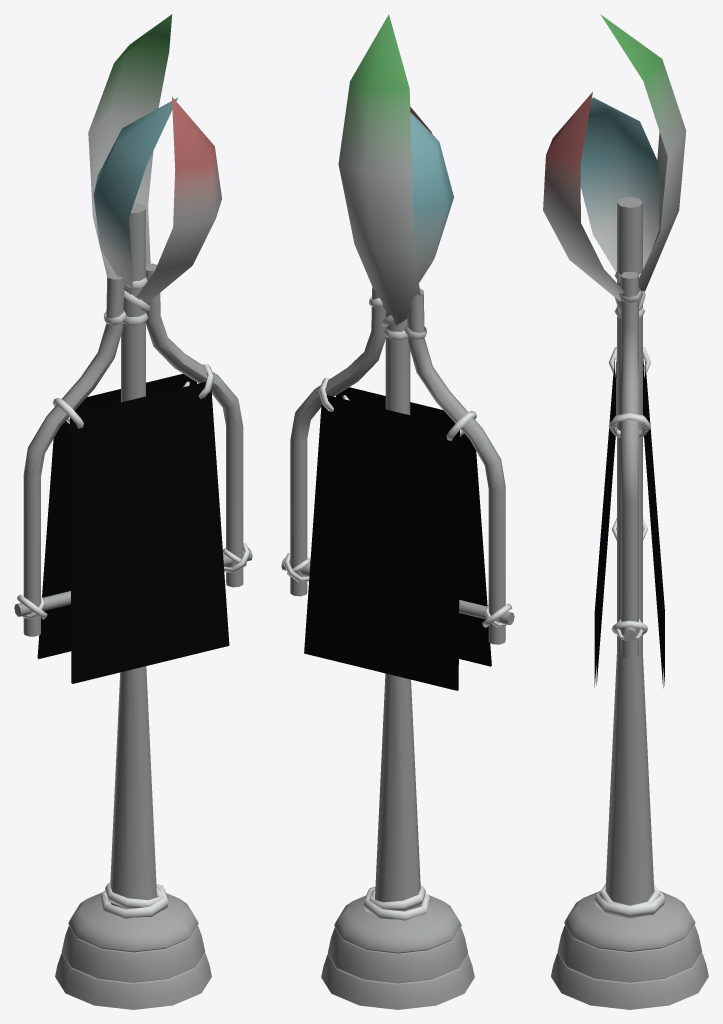
3 views of the same model, side by side, from view 1: azimuth 30°, elevation 25°; view 2: azimuth 150°, elevation 25°; view 3: azimuth 270°, elevation 25° (orthographic). The views are drawn at different scales.
Parts seen in each view (by area): view 1: G:\FFXIV-MapTools\exports\y6f1\bg\ex5\02_ykt_y6\fld\y6f1\bgp (×5); view 2: G:\FFXIV-MapTools\exports\y6f1\bg\ex5\02_ykt_y6\fld\y6f1\bgp (×5); view 3: G:\FFXIV-MapTools\exports\y6f1\bg\ex5\02_ykt_y6\fld\y6f1\bgp (×5).
Boxes of the visible parts, x1=… form: G:\FFXIV-MapTools\exports\y6f1\bg\ex5\02_ykt_y6\fld\y6f1\bgp (×5): x1=14, y1=14, x2=252, y2=1009; G:\FFXIV-MapTools\exports\y6f1\bg\ex5\02_ykt_y6\fld\y6f1\bgp (×5): x1=281, y1=14, x2=514, y2=1009; G:\FFXIV-MapTools\exports\y6f1\bg\ex5\02_ykt_y6\fld\y6f1\bgp (×5): x1=543, y1=14, x2=708, y2=1009.
Bounding box in the file's own units: 0.7207 × 2.88 × 0.4445.
